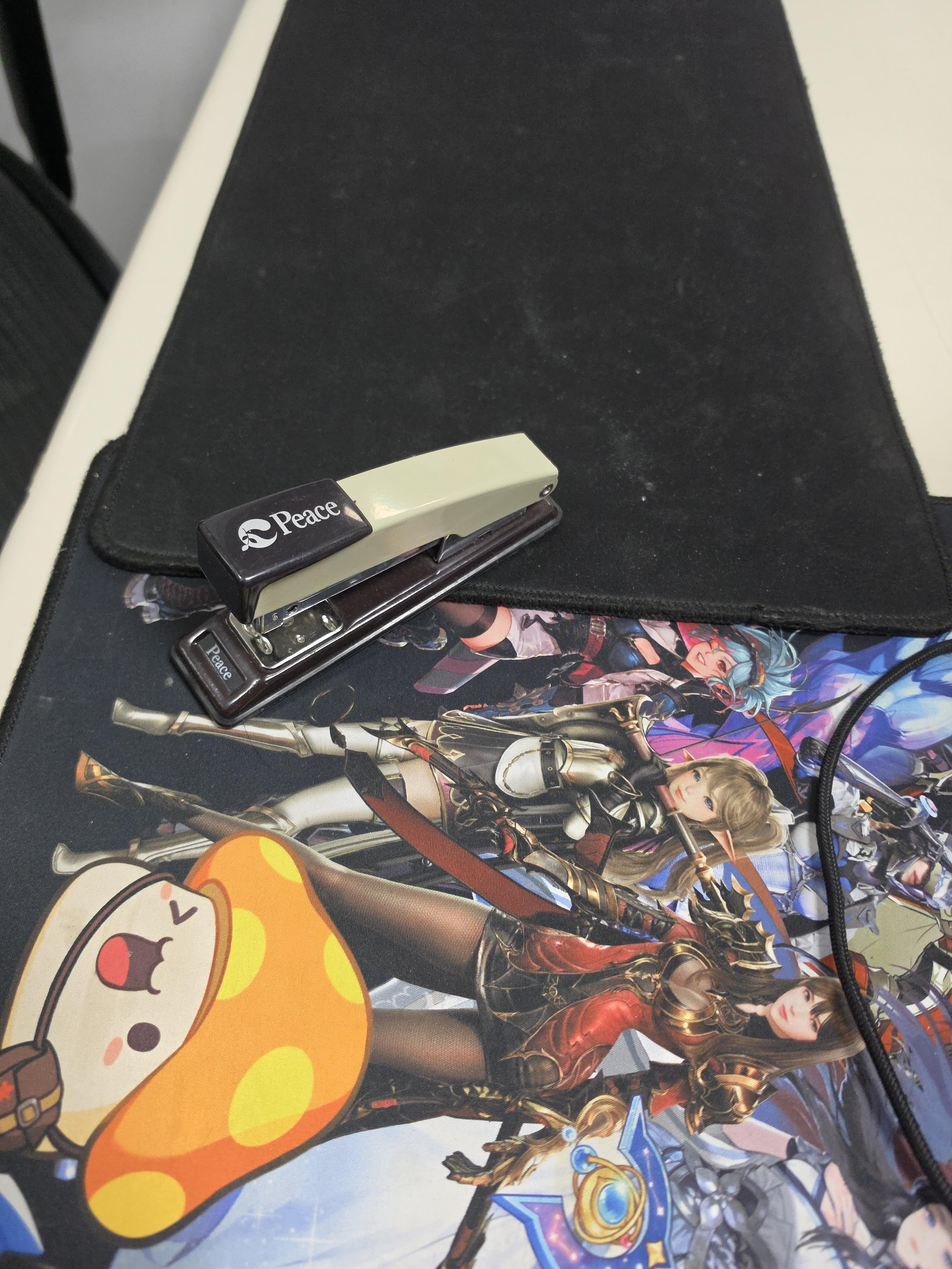stapler: (172, 432, 563, 729)
